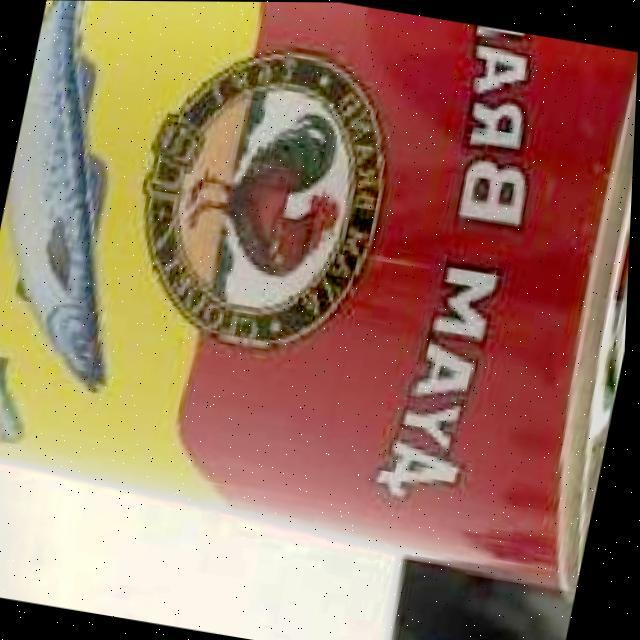Lata: (0, 0, 640, 599)
